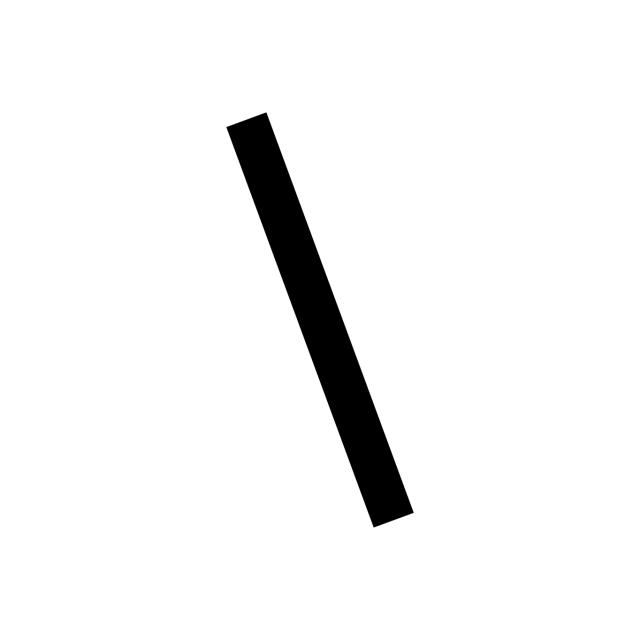line: (226, 112, 414, 528)
